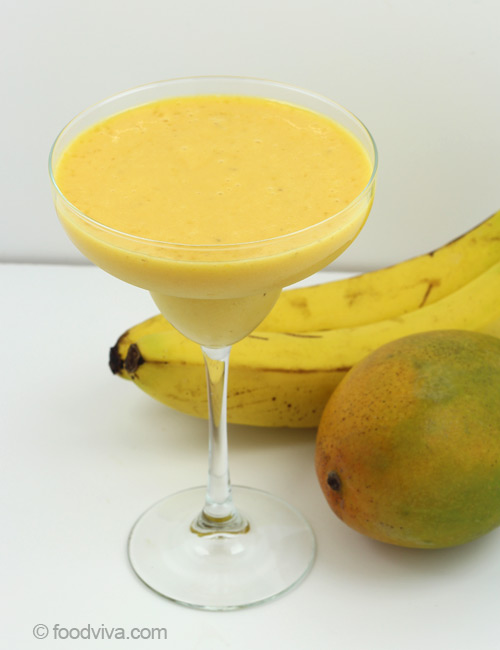mango: (312, 331, 500, 553)
